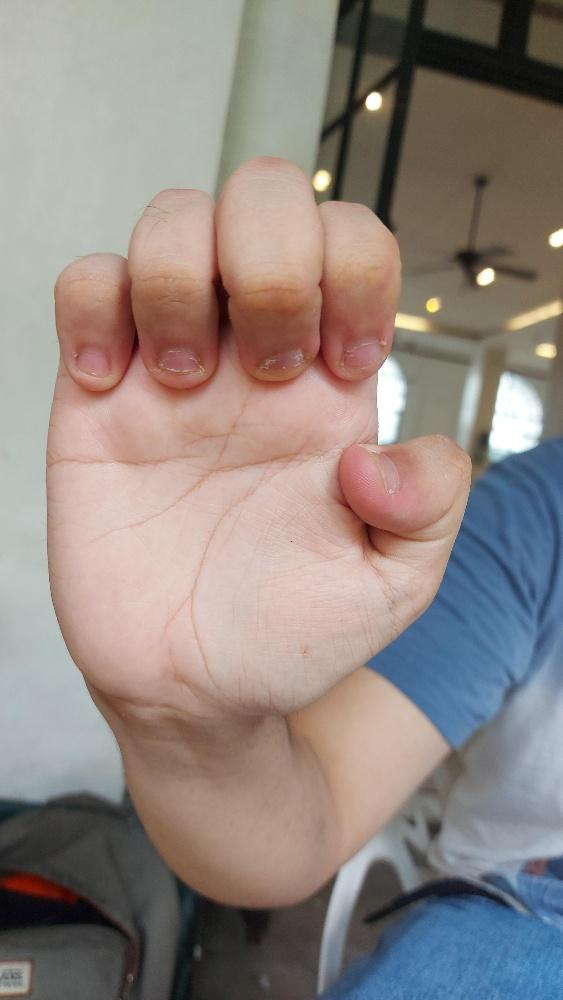e: (44, 154, 472, 721)
